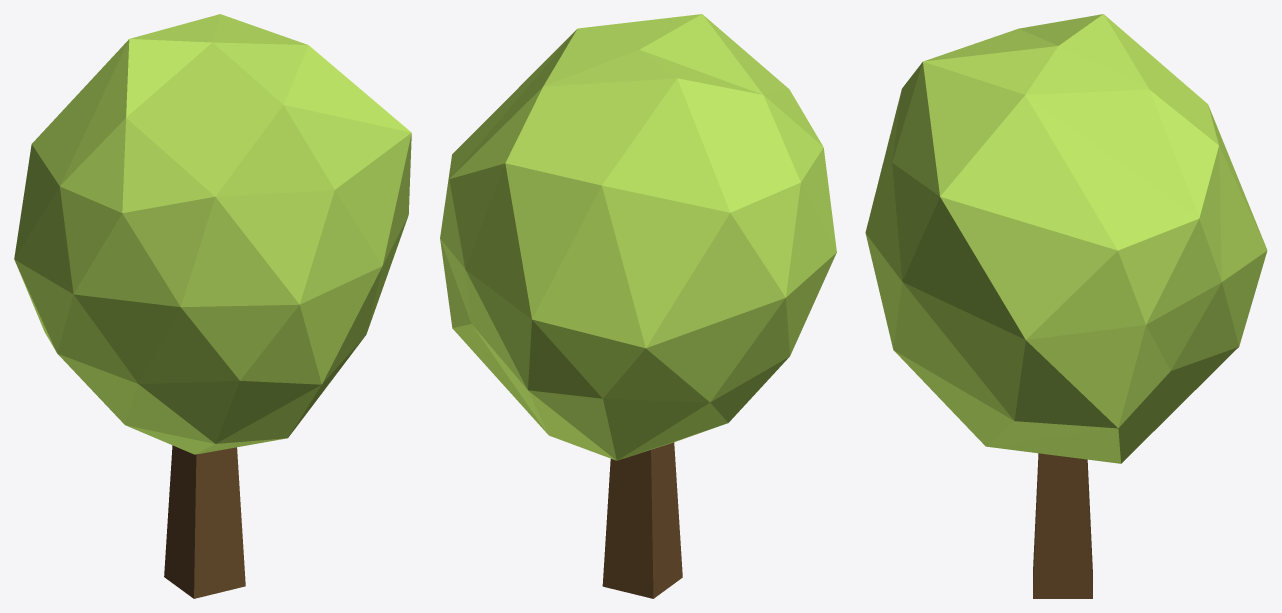
Rendered from Tree 1.fbx.
3 renders of one model, left to right at view 1: azimuth 30°, elevation 25°; view 2: azimuth 150°, elevation 25°; view 3: azimuth 270°, elevation 25°, orthographic. The views are drawn at different scales.
Parts seen in each view (by area): view 1: Дерево; view 2: Дерево; view 3: Дерево.
Part boxes in pixels (x1=…): Дерево: x1=14, y1=14, x2=411, y2=598; Дерево: x1=440, y1=14, x2=836, y2=598; Дерево: x1=865, y1=14, x2=1267, y2=598.
Size of the model in its own units: 773 by 1131 by 756.
